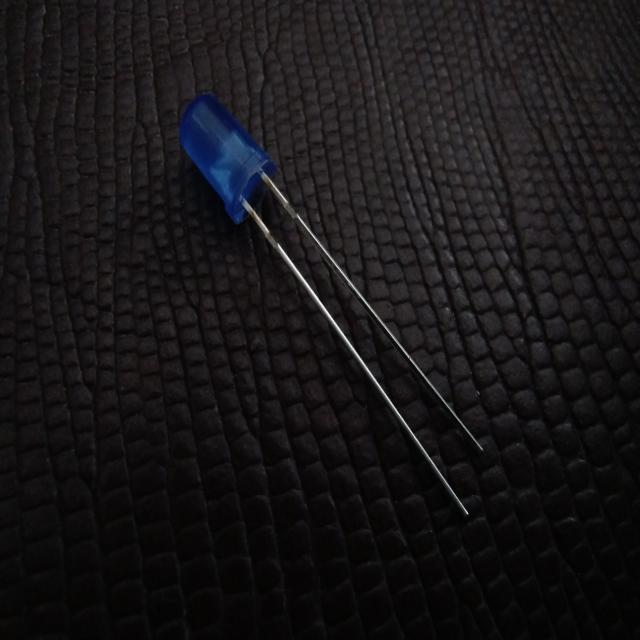blue_led: (178, 90, 277, 226)
